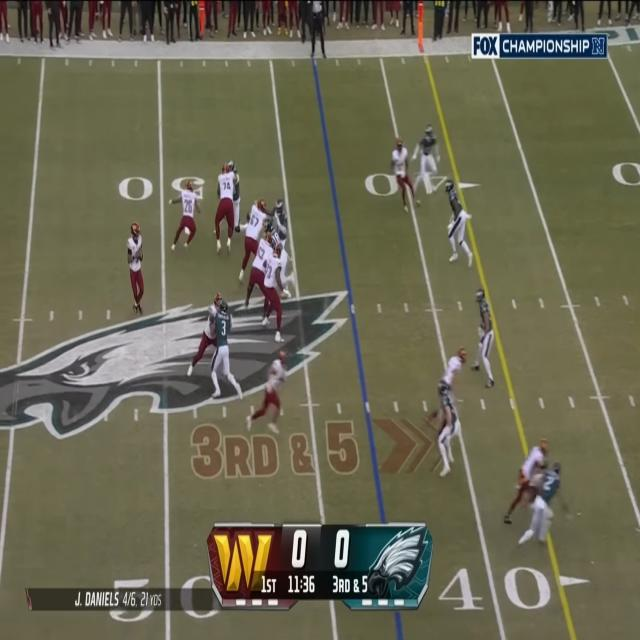Ball: (137, 247, 145, 263)
